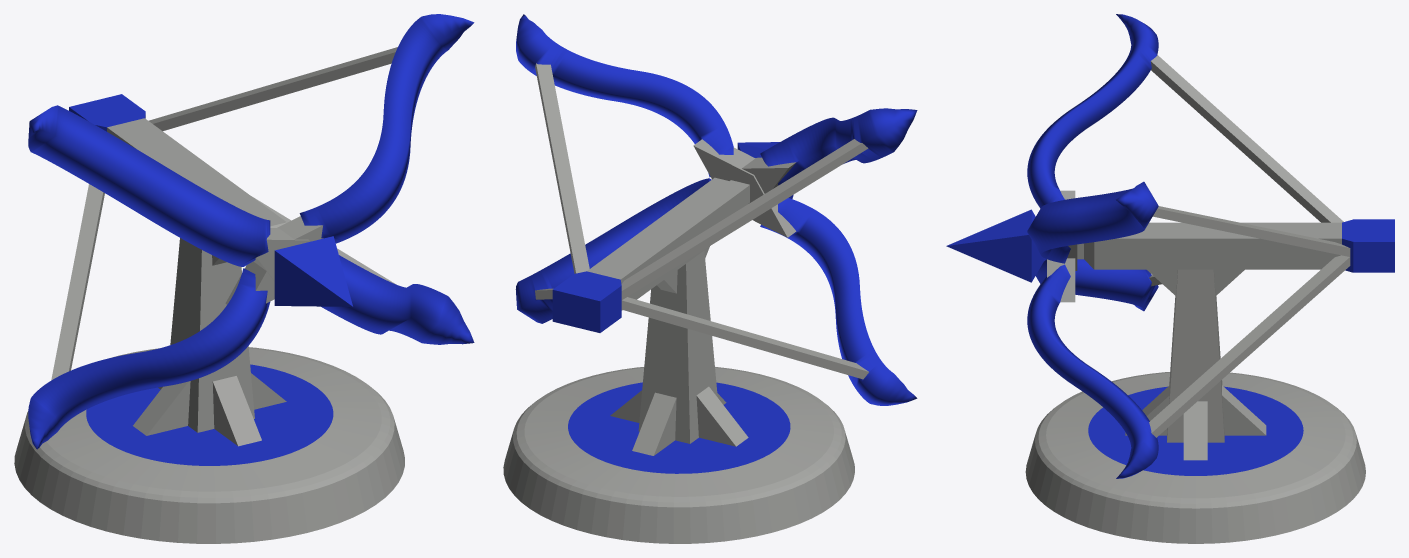
Rendered from ballista_upgraded_water.fbx.
3 renders of one model, left to right at view 1: azimuth 30°, elevation 25°; view 2: azimuth 150°, elevation 25°; view 3: azimuth 270°, elevation 25°, orthographic. The views are drawn at different scales.
Parts seen in each view (by area): view 1: Circle; view 2: Circle; view 3: Circle.
Part boxes in pixels (x1,y1,x2,y2): Circle: (14,14,474,543); Circle: (503,14,917,543); Circle: (946,14,1394,543).
Size of the model in its own units: 336 by 312 by 343.
1 material, 1 textured.
